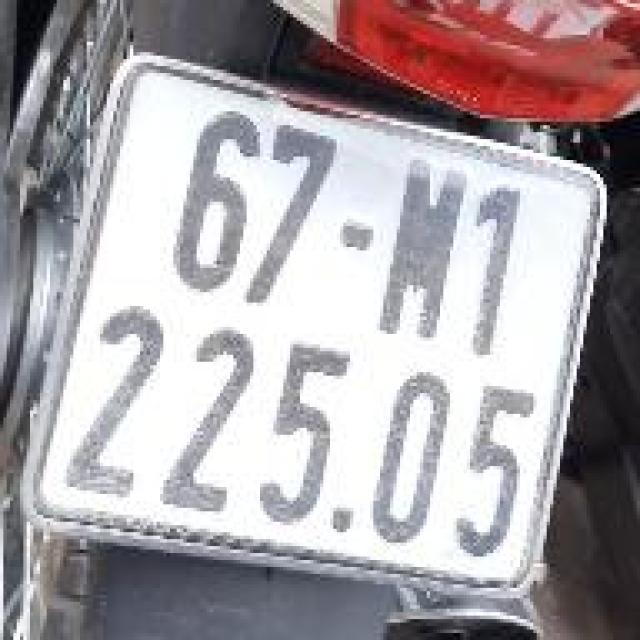0: (358, 362, 467, 555)
1: (451, 176, 539, 368)
2: (44, 293, 193, 503), (153, 313, 278, 520)
5: (246, 330, 365, 533), (446, 373, 544, 564)
6: (158, 95, 269, 306)
7: (230, 117, 348, 320)
M: (369, 145, 481, 350)
